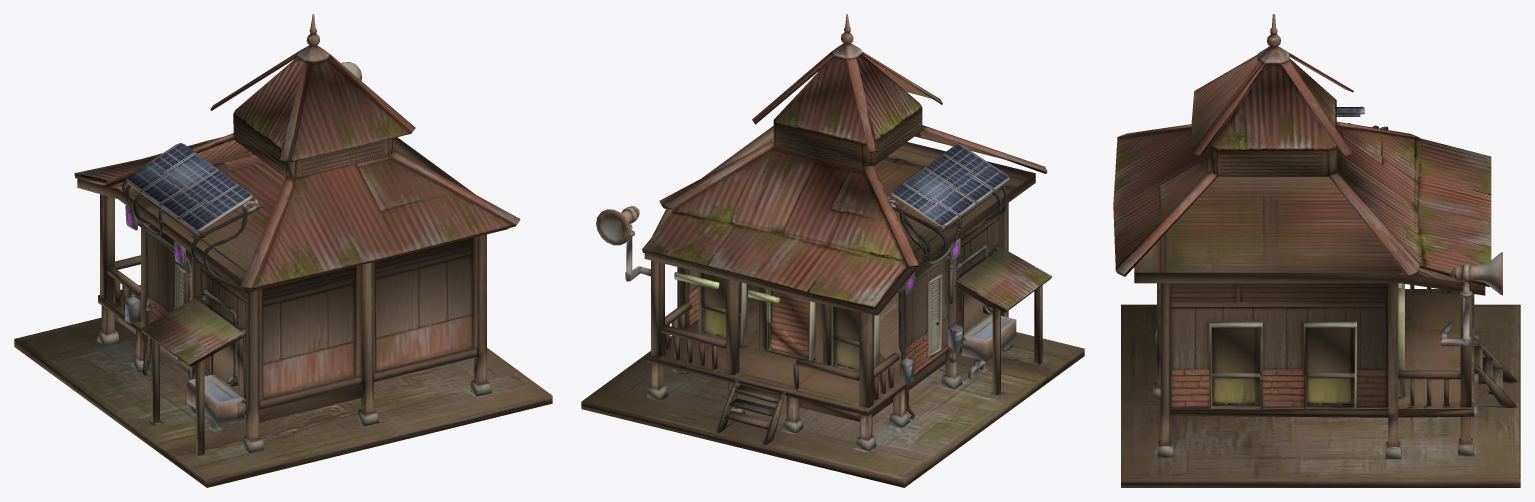
File: kampung_surau.glb
3 views of the same model, side by side, from view 1: azimuth 30°, elevation 25°; view 2: azimuth 150°, elevation 25°; view 3: azimuth 270°, elevation 25° (orthographic). The views are drawn at different scales.
Visible parts, largest first — view 1: Body; view 2: Body; view 3: Body.
Part boxes in pixels (x1,y1,x2,y2): Body: (14,14,552,487); Body: (581,14,1084,487); Body: (1113,14,1520,487).
Size of the model in its own units: 10 by 10.41 by 9.84.
1 material, 1 textured.
